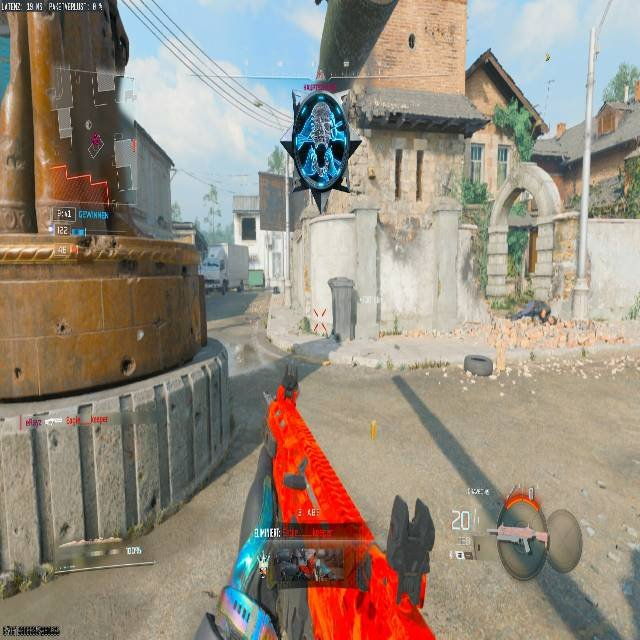head: (208, 587, 253, 640)
